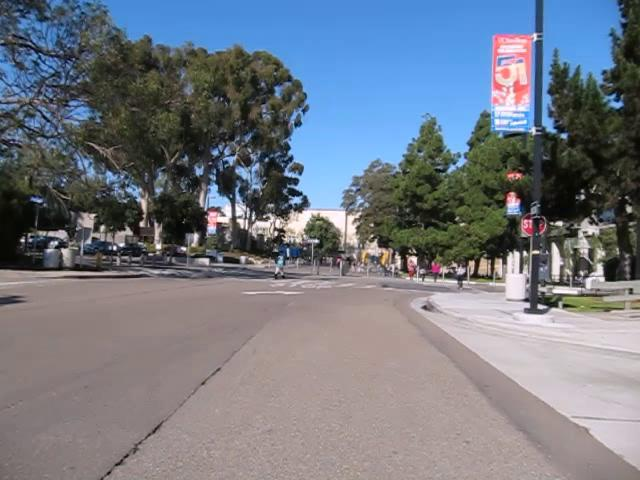stop: (520, 210, 546, 238)
